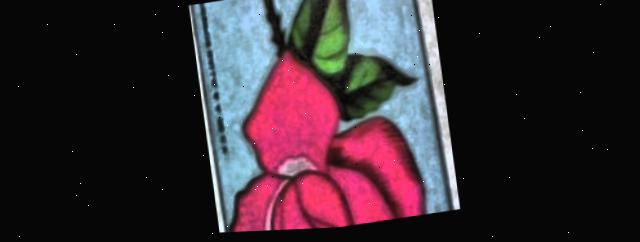La Rosa: (191, 0, 449, 234)
